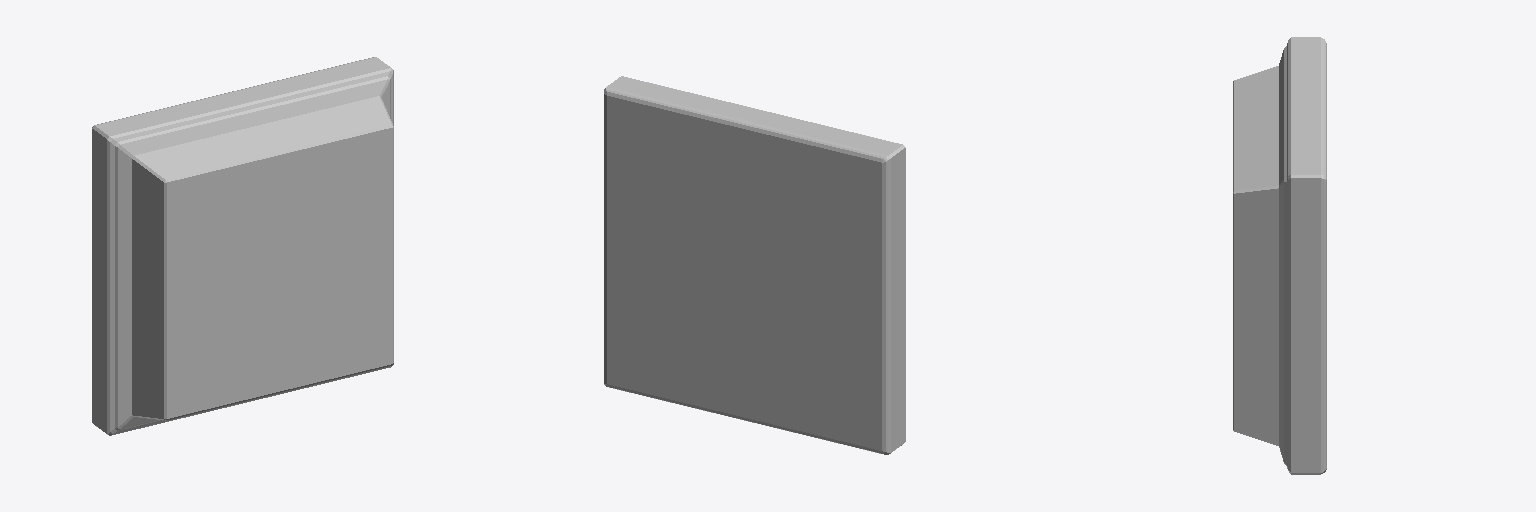
File: MeshFertilityStatue_0_GeomSubset_1.obj
3 renders of one model, left to right at view 1: azimuth 30°, elevation 25°; view 2: azimuth 150°, elevation 25°; view 3: azimuth 270°, elevation 25°, orthographic.
Parts seen in each view (by area): view 1: MeshFertilityStatue_0_GeomSubset_1; view 2: MeshFertilityStatue_0_GeomSubset_1; view 3: MeshFertilityStatue_0_GeomSubset_1.
Part boxes in pixels (x1,y1,x2,y2): MeshFertilityStatue_0_GeomSubset_1: (92, 57, 393, 435); MeshFertilityStatue_0_GeomSubset_1: (604, 76, 905, 454); MeshFertilityStatue_0_GeomSubset_1: (1233, 37, 1326, 474).
Bounding box in the file's own units: 0.1516 × 0.1516 × 0.0435.